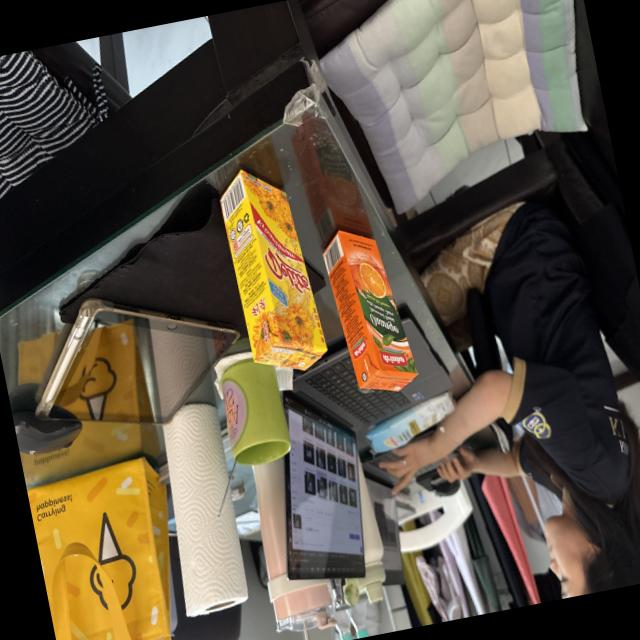drink_carton: (210, 156, 335, 390), (313, 215, 424, 406)
